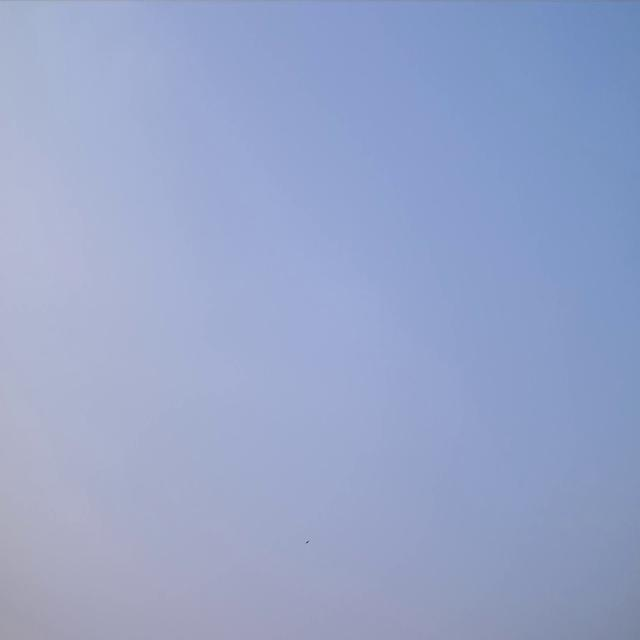UAV: (305, 539, 309, 544)
